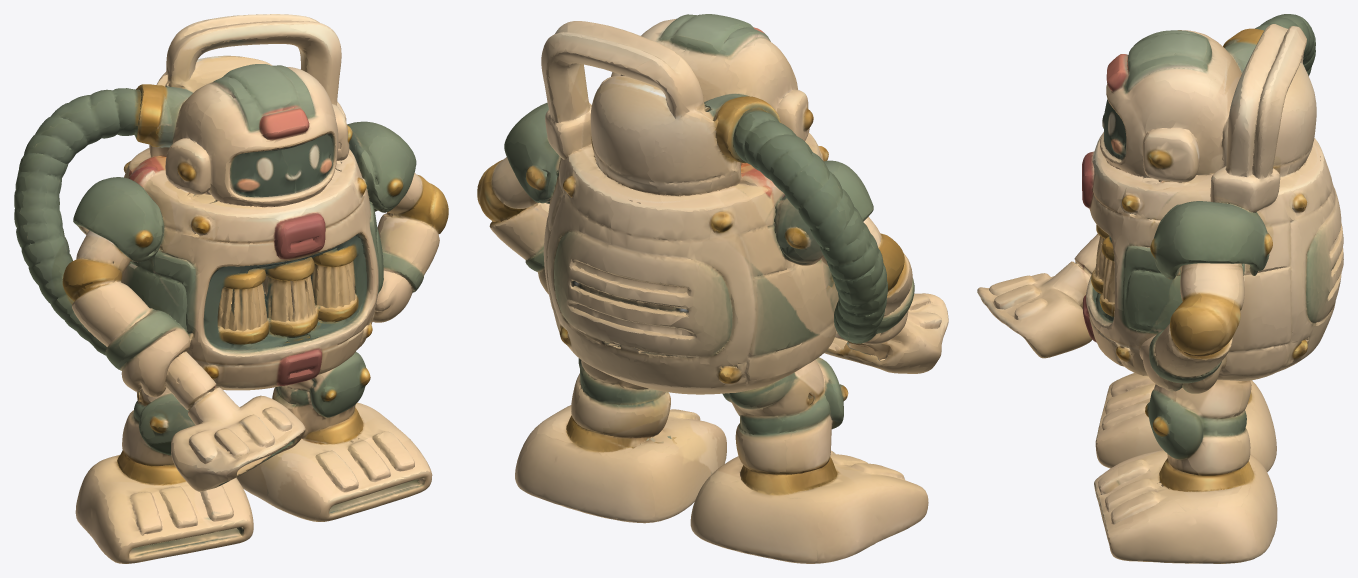
3 views of the same model, side by side, from view 1: azimuth 30°, elevation 25°; view 2: azimuth 150°, elevation 25°; view 3: azimuth 270°, elevation 25° (orthographic). The views are drawn at different scales.
Parts seen in each view (by area): view 1: geometry_0; view 2: geometry_0; view 3: geometry_0.
Boxes of the visible parts, <box> form: geometry_0: <box>14,14,448,563</box>; geometry_0: <box>477,14,948,563</box>; geometry_0: <box>977,14,1343,563</box>.
Size of the model in its own units: 0.2318 by 0.25 by 0.1793.
1 material, 1 textured.
